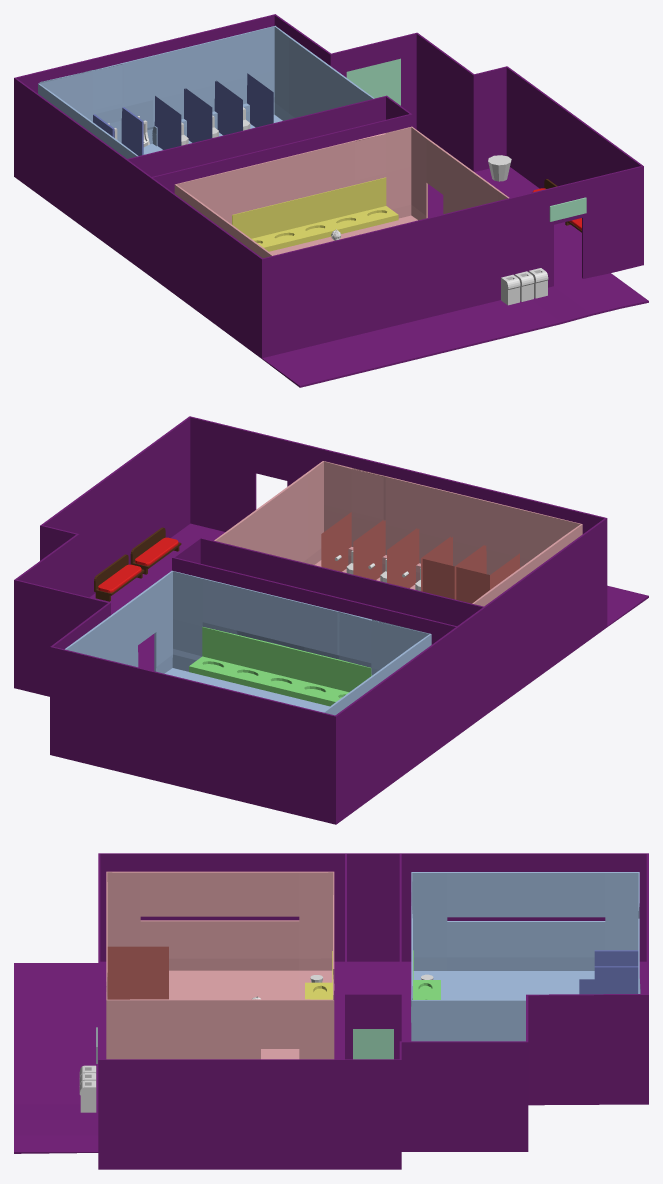
File: Toilet Layout.fbx
The picture shows the model from 3 angles, top to bottom: view 1: azimuth 30°, elevation 25°; view 2: azimuth 150°, elevation 25°; view 3: azimuth 270°, elevation 25°; orthographic projection. The views are drawn at different scales.
Parts seen in each view (by area): view 1: Hallway, Boys Toilet, Girls Toilet Wall, Toilet Mirror, Boys Toilet Stall, Hallway Painting 2, Toilet Sign, Trash 1; view 2: Hallway, Girls Toilet Wall, Boys Toilet, Girls Toilet Stall, Toilet Mirror.001, Chair 4, Chair 3, Chair Pad 3, Chair Pad 4; view 3: Hallway, Girls Toilet Wall, Boys Toilet, Girls Toilet Stall, Boys Toilet Stall, Hallway Painting 1, Toilet Mirror.001, Trash 3, Toilet Mirror.
Part boxes in pixels (x1=…): Hallway: x1=14, y1=14, x2=648, y2=387; Boys Toilet: x1=38, y1=25, x2=374, y2=158; Girls Toilet Wall: x1=174, y1=126, x2=509, y2=257; Toilet Mirror: x1=232, y1=177, x2=398, y2=251; Boys Toilet Stall: x1=93, y1=73, x2=273, y2=155; Hallway Painting 2: x1=346, y1=58, x2=400, y2=105; Toilet Sign: x1=549, y1=197, x2=586, y2=221; Trash 1: x1=501, y1=274, x2=520, y2=305; Hallway: x1=14, y1=416, x2=648, y2=824; Girls Toilet Wall: x1=214, y1=461, x2=582, y2=606; Boys Toilet: x1=65, y1=570, x2=431, y2=715; Girls Toilet Stall: x1=321, y1=512, x2=520, y2=603; Toilet Mirror.001: x1=189, y1=627, x2=371, y2=706; Chair 4: x1=94, y1=554, x2=144, y2=601; Chair 3: x1=130, y1=527, x2=181, y2=574; Chair Pad 3: x1=135, y1=537, x2=178, y2=565; Chair Pad 4: x1=98, y1=564, x2=141, y2=592; Hallway: x1=14, y1=853, x2=648, y2=1169; Girls Toilet Wall: x1=106, y1=871, x2=334, y2=1059; Boys Toilet: x1=411, y1=872, x2=640, y2=1041; Girls Toilet Stall: x1=107, y1=946, x2=168, y2=999; Boys Toilet Stall: x1=579, y1=950, x2=638, y2=994; Hallway Painting 1: x1=353, y1=1029, x2=393, y2=1059; Toilet Mirror.001: x1=413, y1=950, x2=440, y2=999; Trash 3: x1=79, y1=1080, x2=96, y2=1112; Toilet Mirror: x1=305, y1=951, x2=332, y2=999.
Bounding box in the file's own units: 1889 × 476 × 2450.
